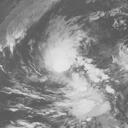cyclone: (31, 34, 111, 117)
